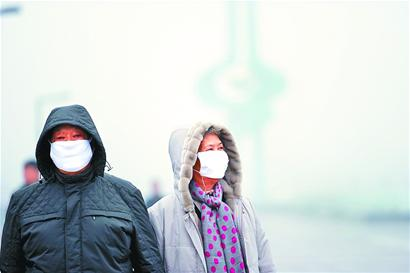yes_mask: (39, 105, 97, 174), (185, 125, 231, 182)
